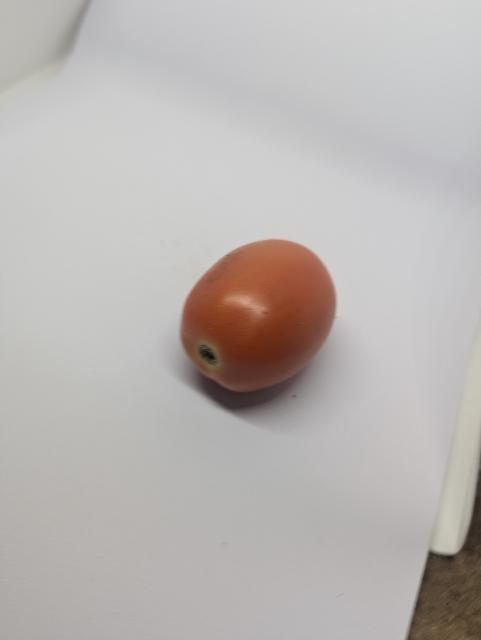red: (172, 233, 344, 403)
